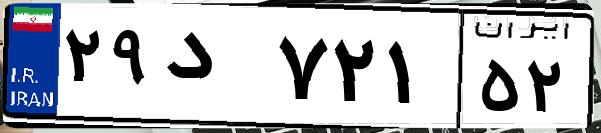1: (385, 28, 445, 110)
2: (330, 28, 385, 110), (57, 26, 110, 100), (525, 38, 570, 115)
5: (475, 38, 525, 113)
7: (270, 28, 330, 110)
9: (110, 28, 158, 98)
د: (158, 20, 270, 120)
